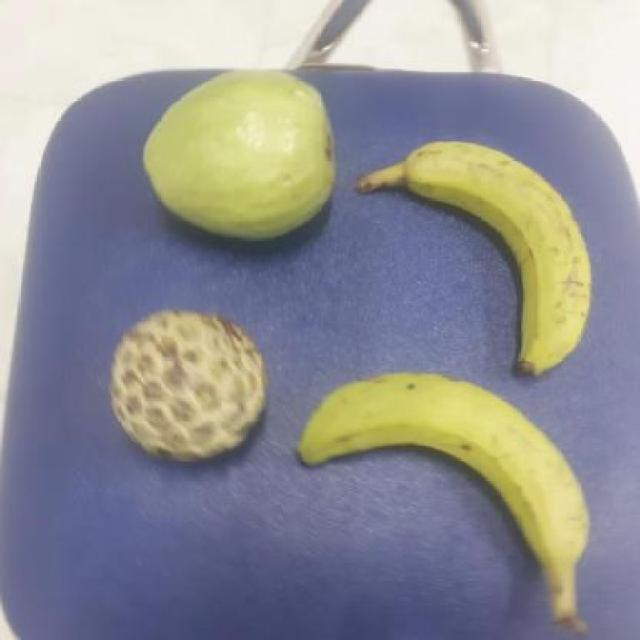banana: (282, 372, 570, 588), (351, 144, 586, 376)
guava: (140, 68, 335, 243)
sugar apple: (102, 310, 266, 462)
